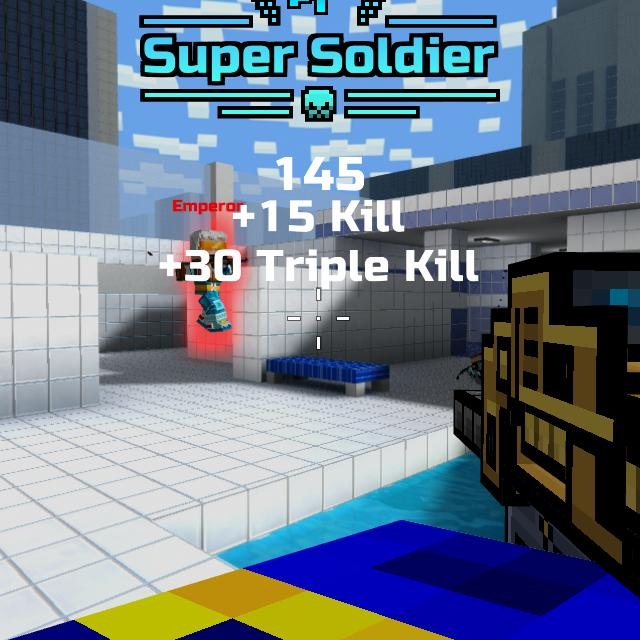Enemy: (175, 229, 240, 332)
